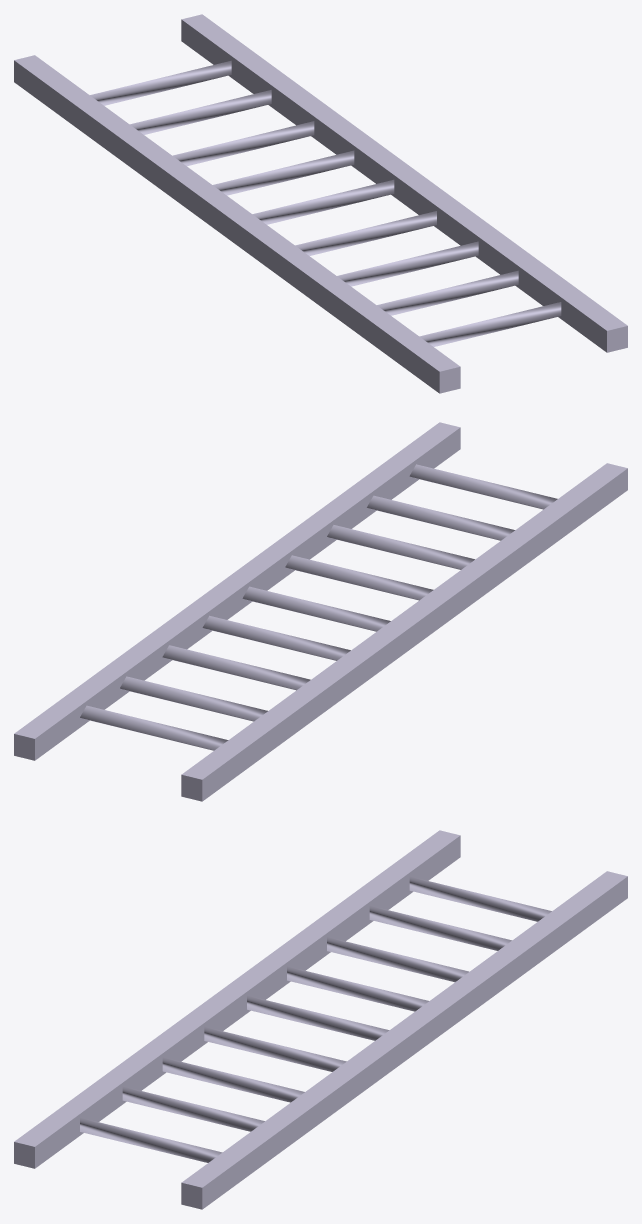
3 views of the same model, one above another, from view 1: azimuth 30°, elevation 25°; view 2: azimuth 150°, elevation 25°; view 3: azimuth 330°, elevation 25° (orthographic).
Visible parts, largest first — view 1: Object120; view 2: Object120; view 3: Object120.
Boxes of the visible parts, x1=… form: Object120: x1=14, y1=14, x2=627, y2=393; Object120: x1=14, y1=422, x2=627, y2=801; Object120: x1=14, y1=830, x2=627, y2=1209.
Bounding box in the file's own units: 8432 × 938 × 33000.
